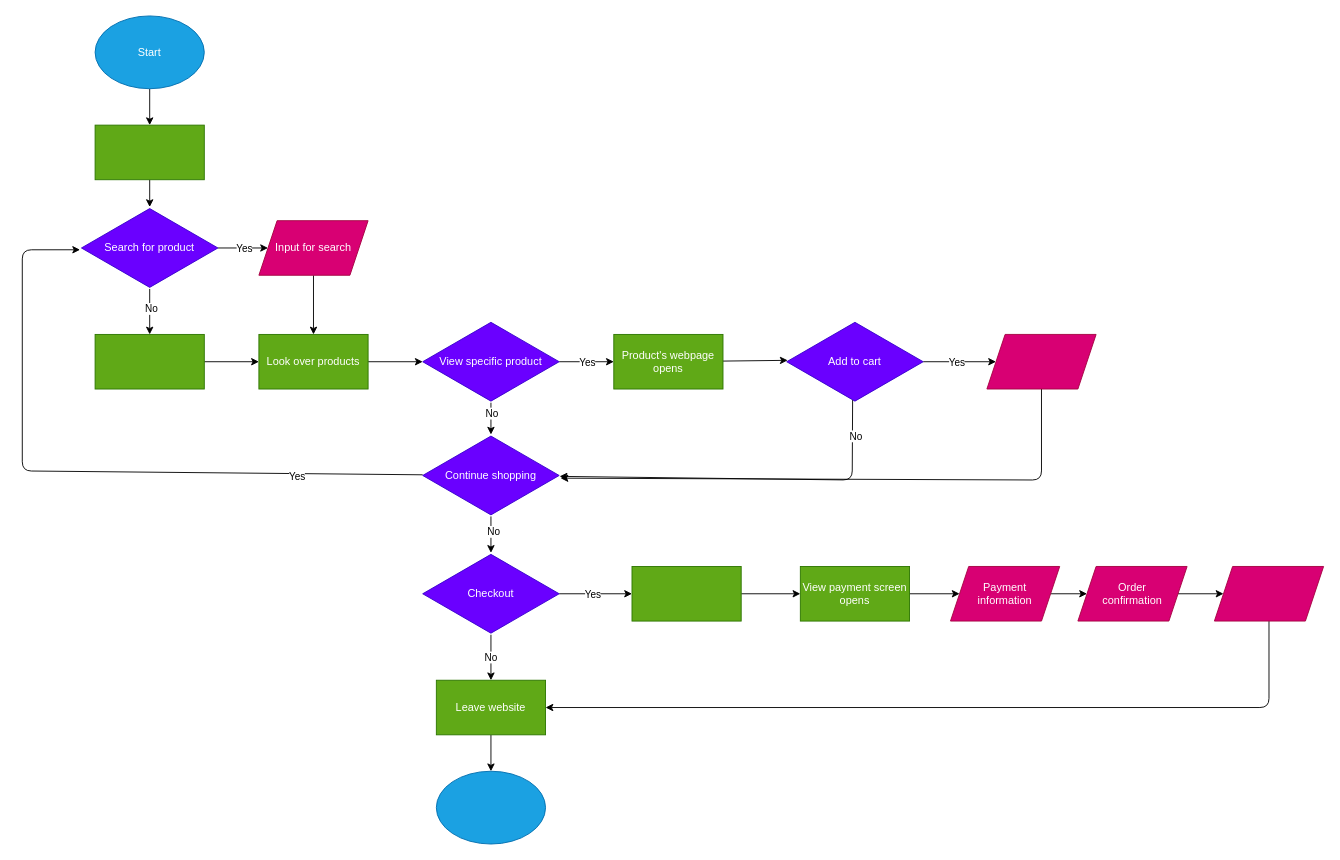
This 1340x860 diagram has some shape labels left out. Each missing label, with the centre of its shape:
Add to cart confirmaton: the point at 1041,361
End: the point at 490,807
Enter website: the point at 149,152
Explore homepage: the point at 149,361
Receive email: the point at 1268,593
View cart screen opens: the point at 686,593
